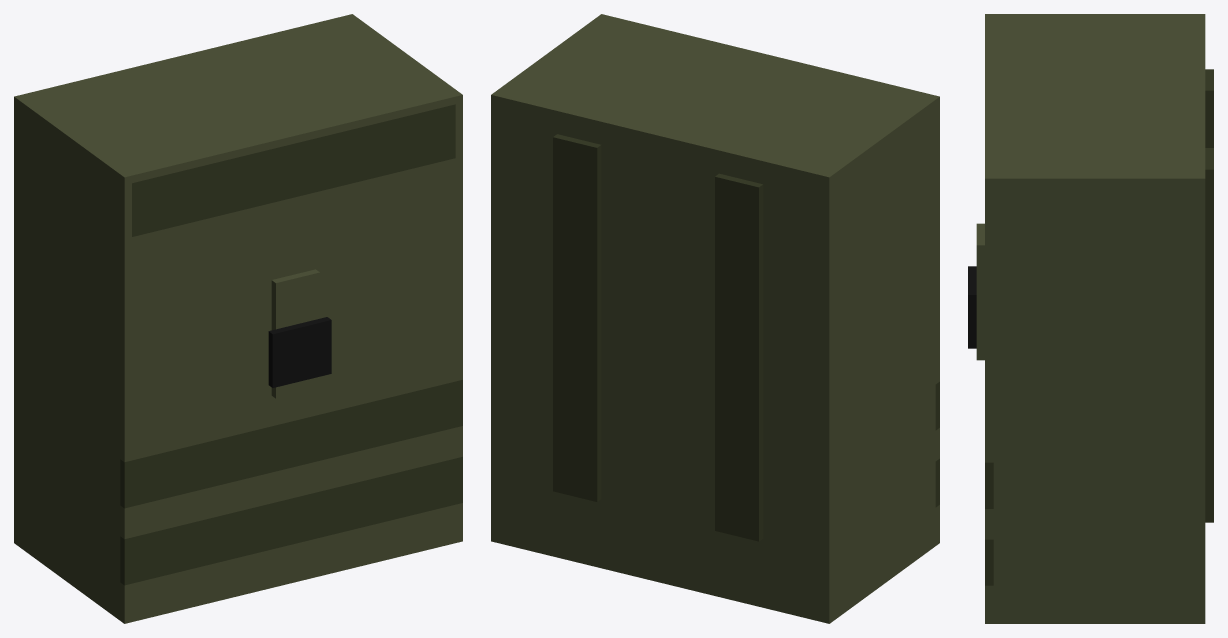
The model's file is sustainment_pouch.glb.
3 renders of one model, left to right at view 1: azimuth 30°, elevation 25°; view 2: azimuth 150°, elevation 25°; view 3: azimuth 270°, elevation 25°, orthographic.
Parts seen in each view (by area): view 1: sustainment_pouch:compound; view 2: sustainment_pouch:compound; view 3: sustainment_pouch:compound.
Part boxes in pixels (box(x1,y1,x2,y2)): sustainment_pouch:compound: box(14, 14, 462, 623); sustainment_pouch:compound: box(491, 14, 939, 623); sustainment_pouch:compound: box(968, 14, 1213, 623).
Bounding box in the file's own units: 0.184 × 0.232 × 0.116.
